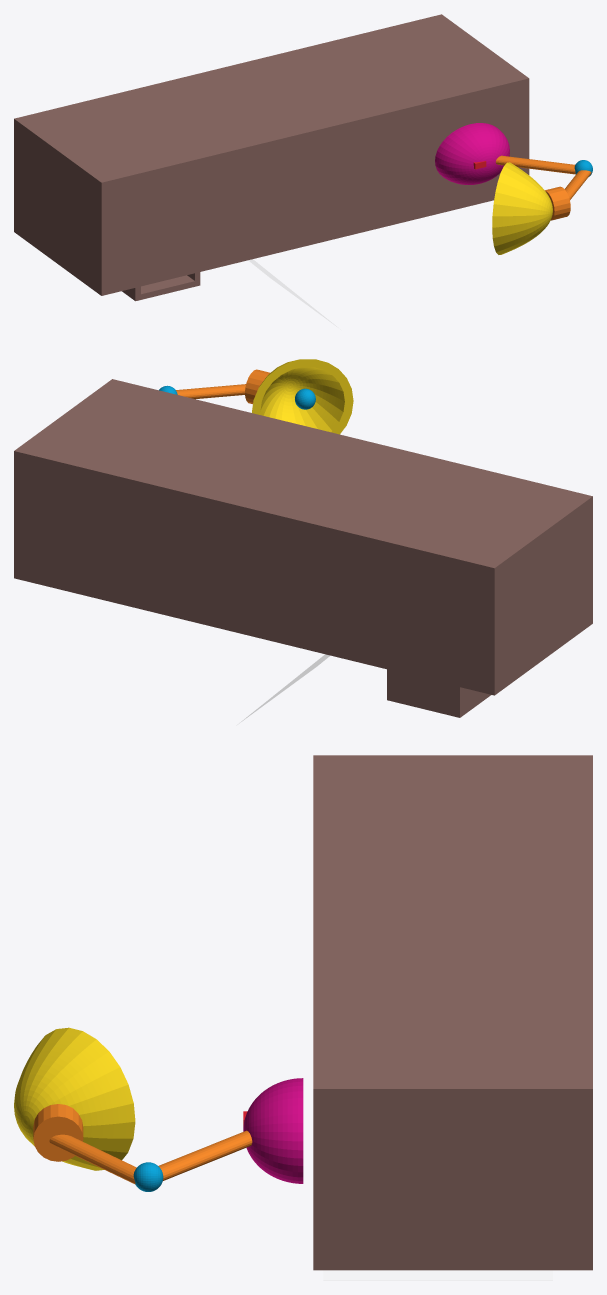
Rendered from tinker.obj.
3 renders of one model, top to bottom at view 1: azimuth 30°, elevation 25°; view 2: azimuth 150°, elevation 25°; view 3: azimuth 270°, elevation 25°, orthographic. The views are drawn at different scales.
Visible parts, largest first — view 1: group_0_9136226, group_0_16768282, group_0_14093196, group_0_16089887; view 2: group_0_9136226, group_0_16768282, group_0_16089887; view 3: group_0_9136226, group_0_16768282, group_0_16089887, group_0_14093196, group_0_-1023410177, group_0_40919.
Part boxes in pixels (bbox=[...]): group_0_9136226: bbox=[14, 14, 529, 301]; group_0_16768282: bbox=[492, 162, 552, 254]; group_0_14093196: bbox=[435, 123, 509, 184]; group_0_16089887: bbox=[495, 155, 591, 220]; group_0_9136226: bbox=[14, 379, 592, 717]; group_0_16768282: bbox=[252, 359, 353, 434]; group_0_16089887: bbox=[176, 369, 270, 404]; group_0_9136226: bbox=[313, 755, 592, 1270]; group_0_16768282: bbox=[14, 1027, 135, 1170]; group_0_16089887: bbox=[33, 1104, 252, 1183]; group_0_14093196: bbox=[243, 1078, 303, 1183]; group_0_-1023410177: bbox=[323, 1270, 552, 1280]; group_0_40919: bbox=[133, 1162, 163, 1191].
Bounding box in the file's own units: 81 × 37 × 57.95.
